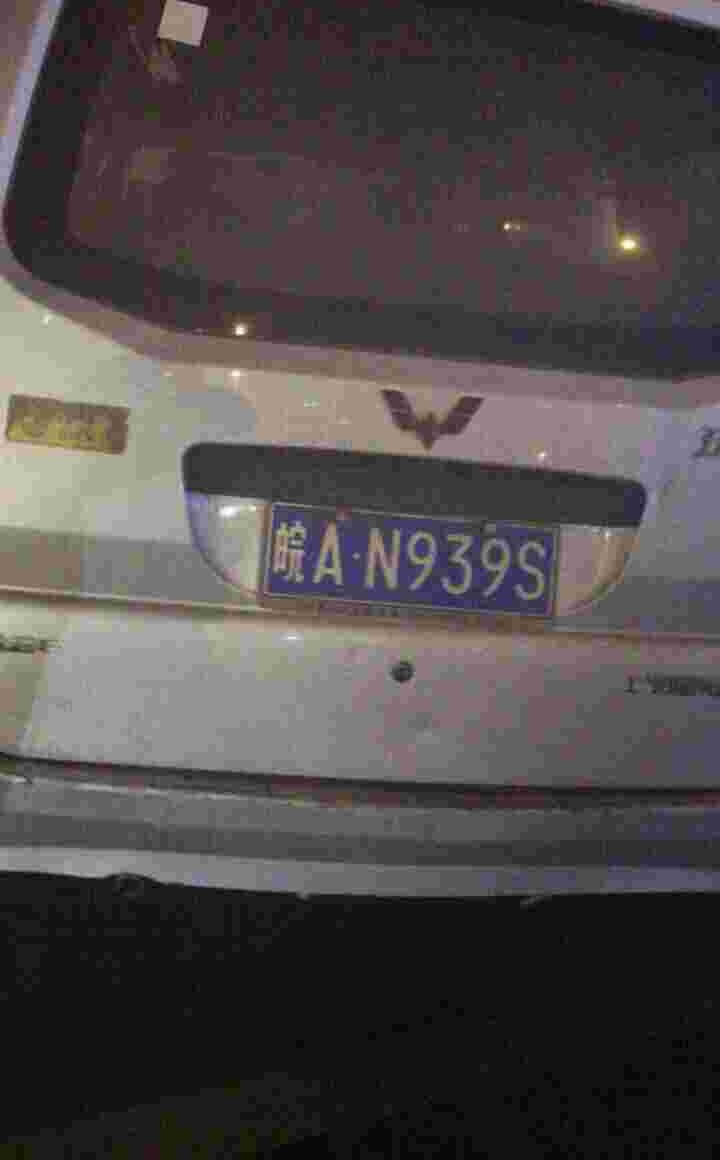license_plate: (265, 504, 568, 615)
